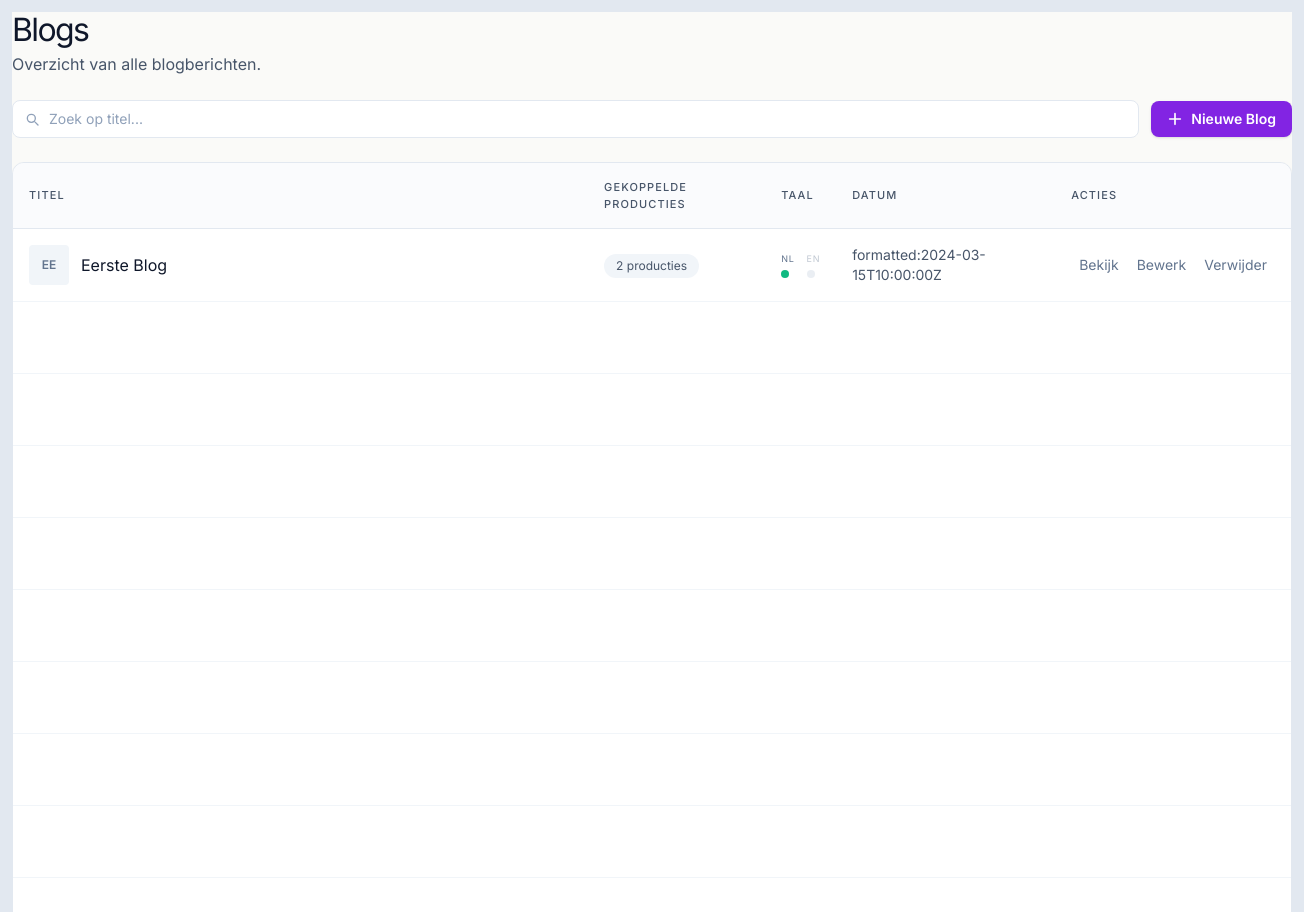
Test: BlogsPage › shows an error when the delete request fails
Click the button "Verwijder" at (1236, 265), box [1196, 249, 1275, 281]
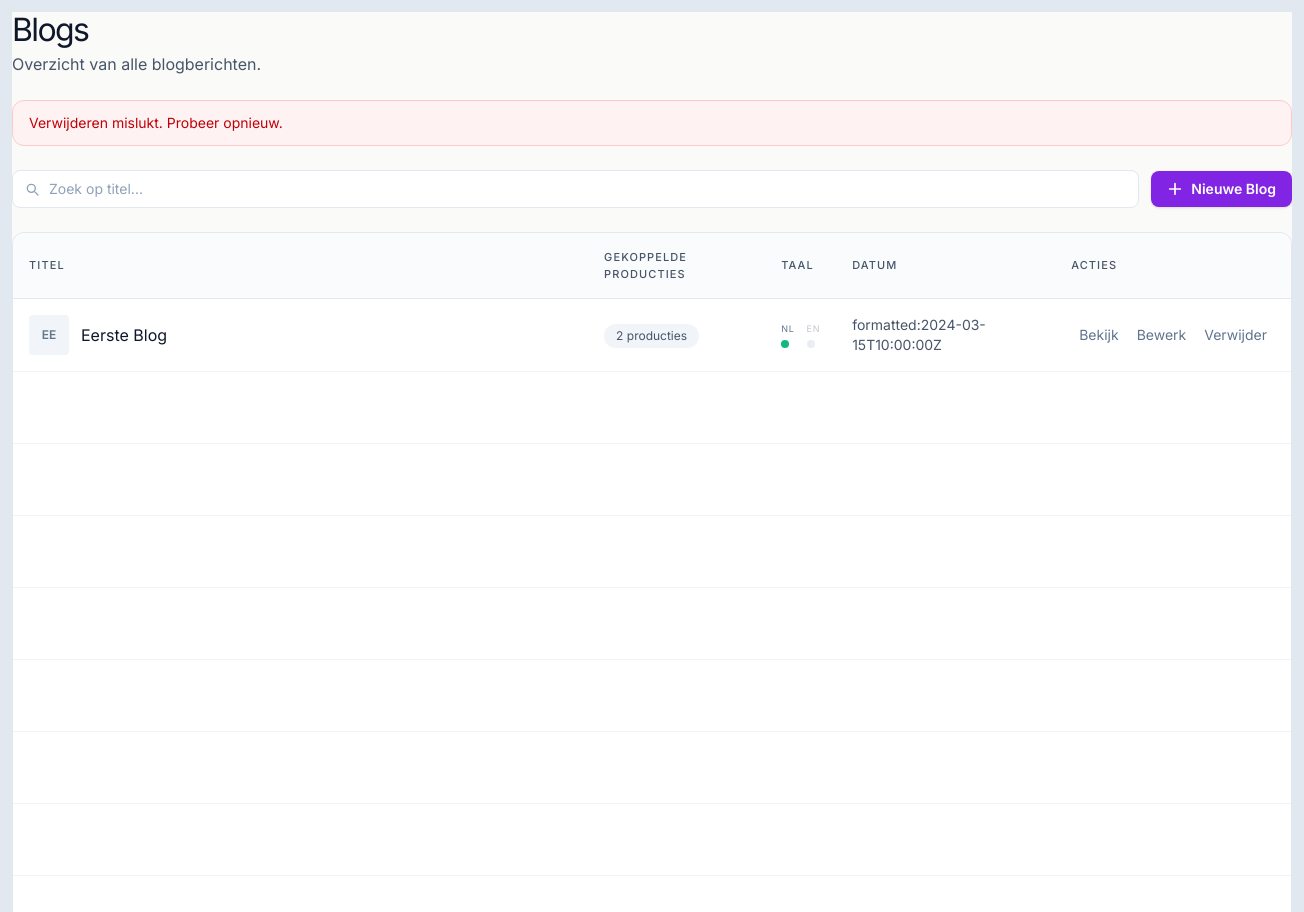
Result: the text "Verwijderen mislukt. Probeer opnieuw." is shown at [12, 100, 1292, 146]
